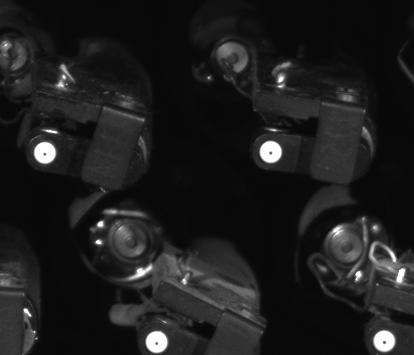fiber: (254, 136, 289, 165), (30, 139, 63, 166), (143, 326, 171, 355), (369, 328, 398, 355)
